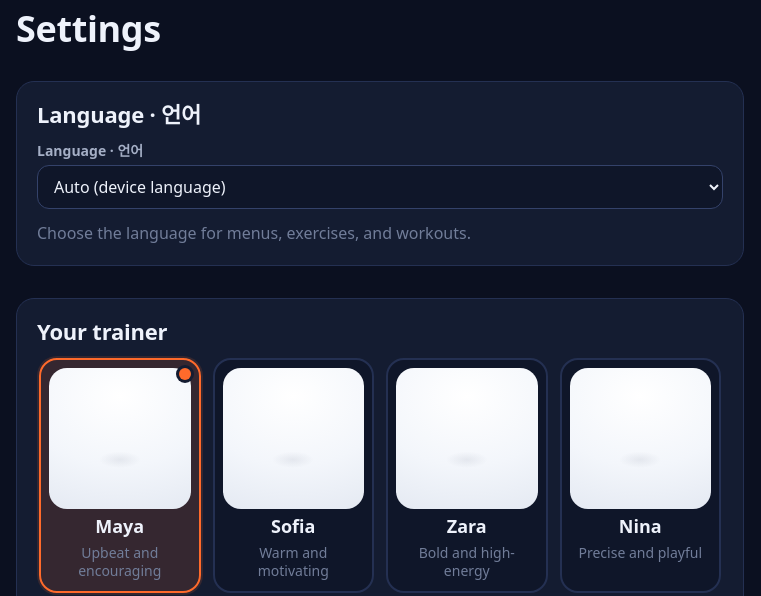
Test case: settings language › switches the page to Korean from the language select
The image size is (761, 596).
Expected: the heading "Settings" is shown, [16, 4, 161, 53]
Step 1. Select "한국어" in the dropdown labelled "Language · 언어" → (380, 187), box [37, 165, 723, 209]
(page scrolled)
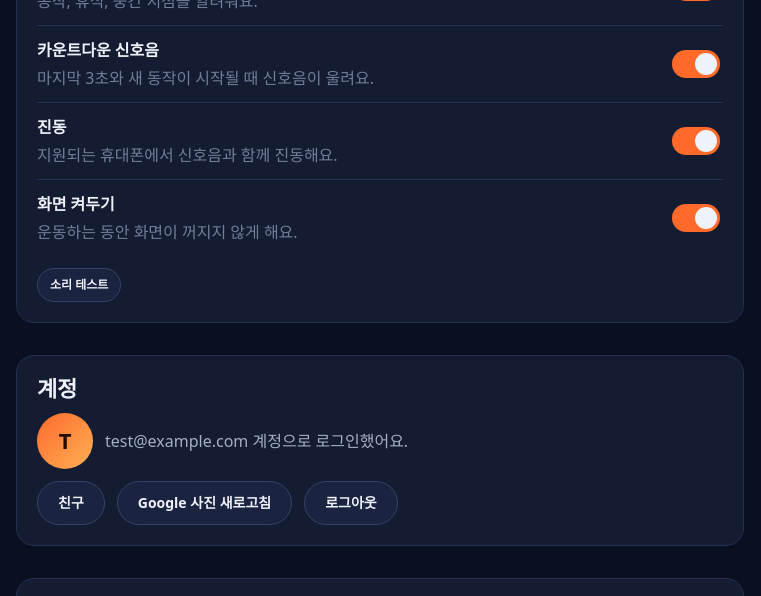
Result: the text "test@example.com 계정으로 로그인했어요." is shown at [105, 429, 408, 453]
